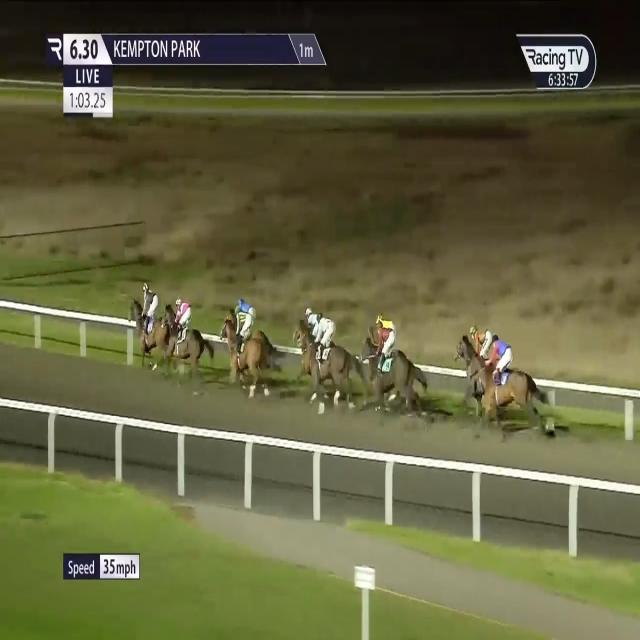horses-racing: (466, 336, 547, 432), (357, 322, 424, 418), (215, 305, 278, 390), (309, 309, 352, 410), (125, 277, 171, 371), (159, 293, 208, 380), (456, 314, 498, 392), (288, 300, 332, 368), (233, 293, 271, 352), (368, 305, 396, 345)
